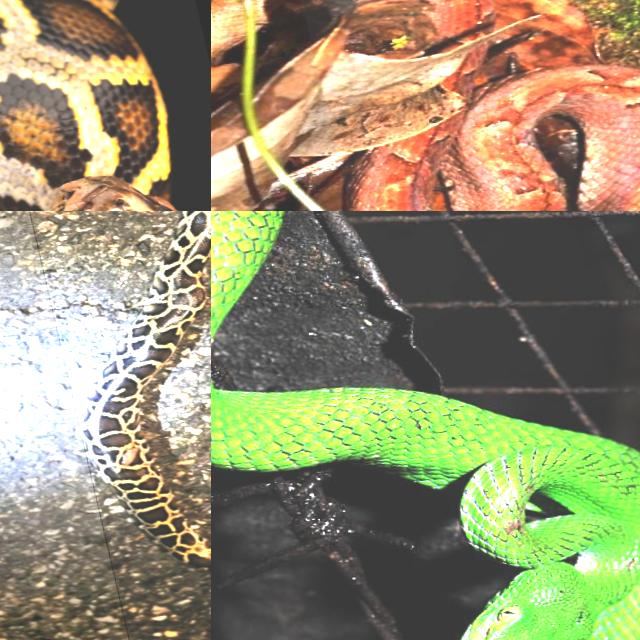Calloselasma rhodostoma: (350, 65, 639, 210)
Python bivittatus: (77, 211, 210, 572), (0, 0, 175, 210)
Trimeresurus macrops: (211, 382, 639, 639)
snake: (211, 382, 639, 639), (77, 211, 210, 572), (350, 65, 639, 210), (0, 0, 175, 210)
